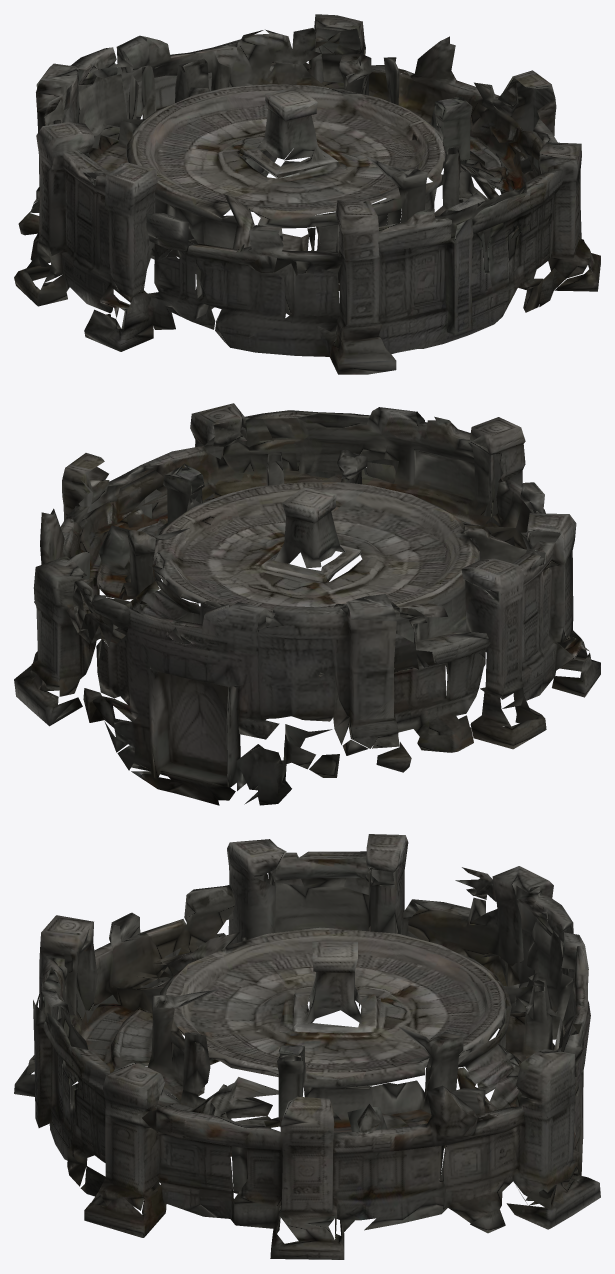
Rendered from Arena_Centerpiece.glb.
The picture shows the model from 3 angles, top to bottom: view 1: azimuth 30°, elevation 25°; view 2: azimuth 150°, elevation 25°; view 3: azimuth 270°, elevation 25°; orthographic projection. The views are drawn at different scales.
Parts seen in each view (by area): view 1: tripo_node_cb176931-2ebd-4012-b164-4fdaac66a044; view 2: tripo_node_cb176931-2ebd-4012-b164-4fdaac66a044; view 3: tripo_node_cb176931-2ebd-4012-b164-4fdaac66a044.
Boxes of the visible parts, bbox=[...] form: tripo_node_cb176931-2ebd-4012-b164-4fdaac66a044: bbox=[14, 14, 600, 374]; tripo_node_cb176931-2ebd-4012-b164-4fdaac66a044: bbox=[14, 403, 600, 805]; tripo_node_cb176931-2ebd-4012-b164-4fdaac66a044: bbox=[14, 834, 600, 1259].
Bounding box in the file's own units: 1 × 0.4052 × 0.9338.
1 material, 1 textured.
